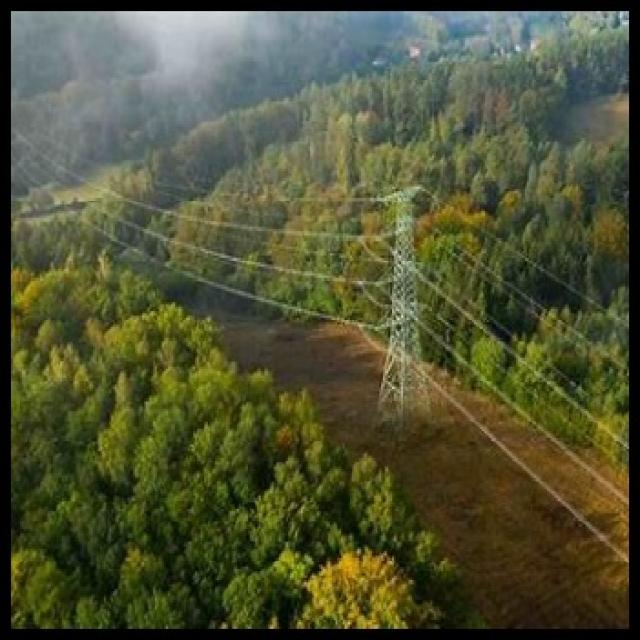utility poles: (369, 174, 440, 438)
